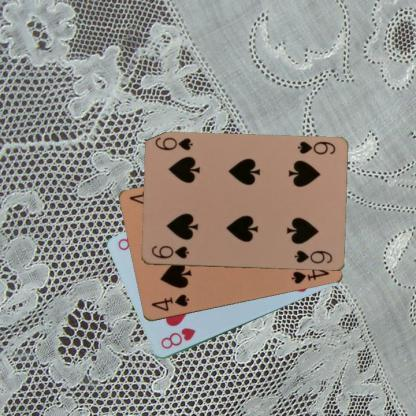4s: (148, 292, 190, 312)
6s: (148, 243, 190, 260), (294, 139, 336, 156)
8h: (158, 325, 198, 351)
